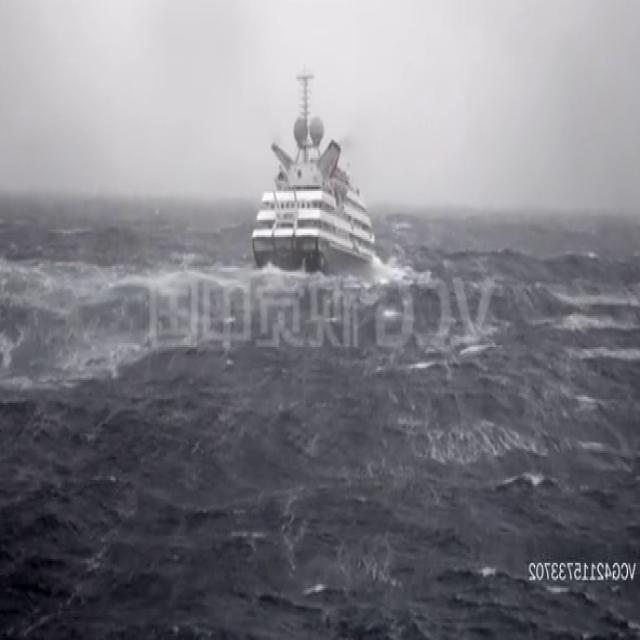passenger ship: (252, 64, 378, 275)
